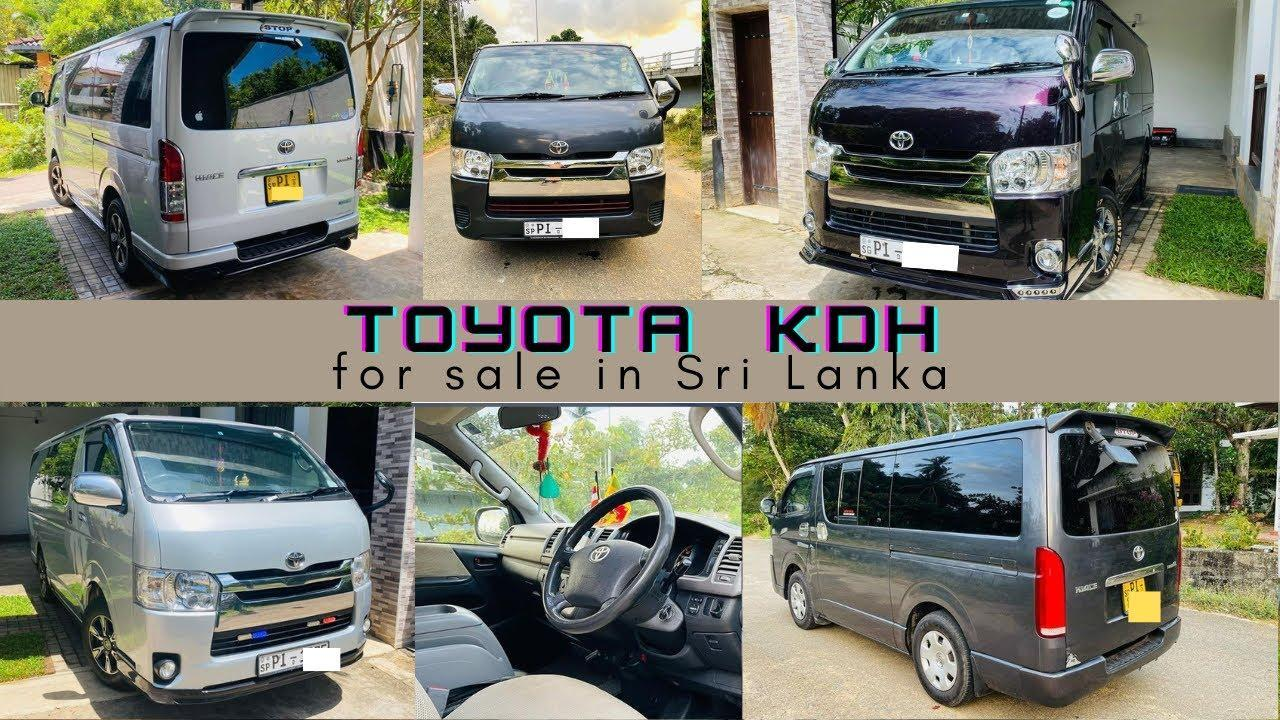car: (784, 403, 1189, 711), (786, 1, 1154, 293), (20, 415, 373, 706), (24, 0, 367, 288), (438, 11, 675, 265)
